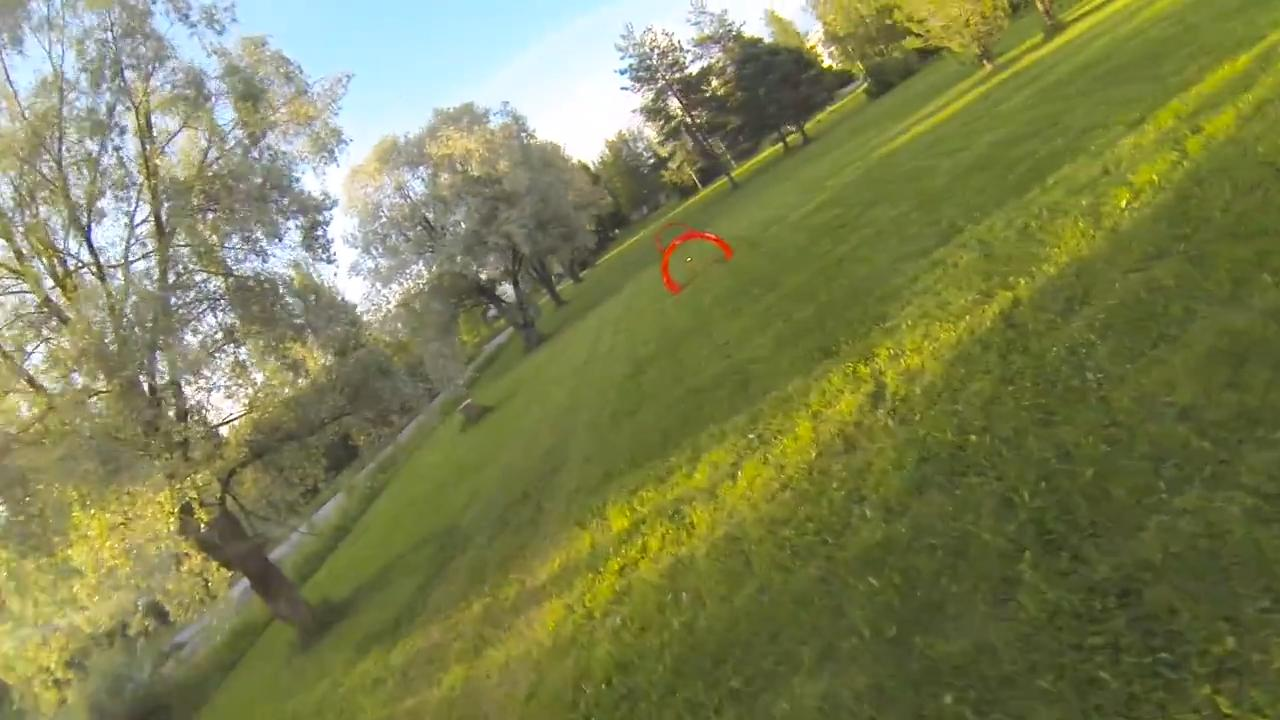gate: (658, 229, 735, 302)
